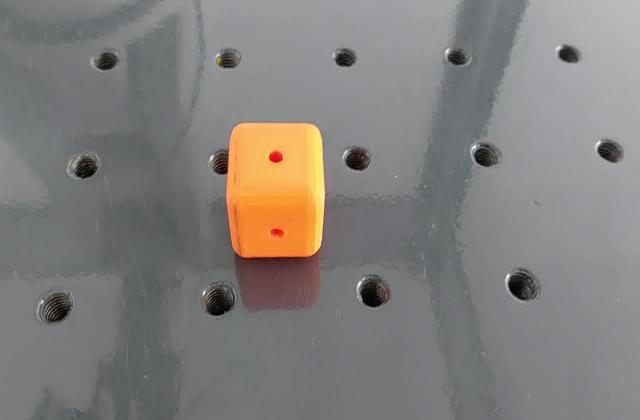cube: (224, 120, 326, 260)
